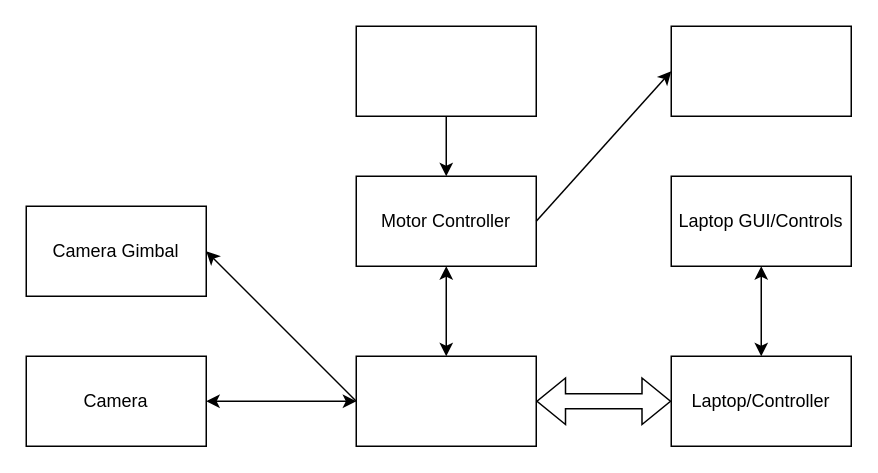
Image size: 878x473. Some labels were removed from this diagram. Here are the shapes that lost their labels. From the top down, the centre of each, then its label:
pixel 445 70: Battery
pixel 760 70: Motors
pixel 445 400: ESP Microcontroller
